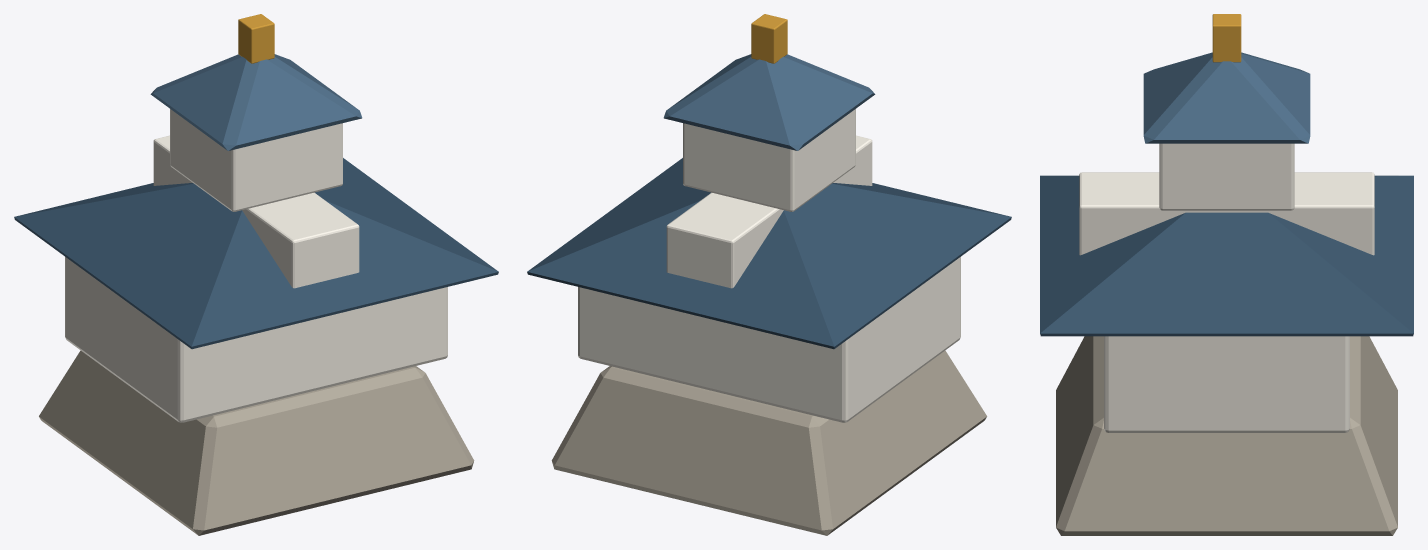
The model's file is castle-boro.glb.
3 renders of one model, left to right at view 1: azimuth 30°, elevation 25°; view 2: azimuth 150°, elevation 25°; view 3: azimuth 270°, elevation 25°, orthographic. The views are drawn at different scales.
Visible parts, largest first — view 1: castle-boro; view 2: castle-boro; view 3: castle-boro.
Part boxes in pixels (x1,y1,x2,y2): castle-boro: (14, 14, 498, 535); castle-boro: (527, 14, 1011, 535); castle-boro: (1040, 14, 1413, 535).
Bounding box in the file's own units: 0.4555 × 0.6 × 0.4555.
